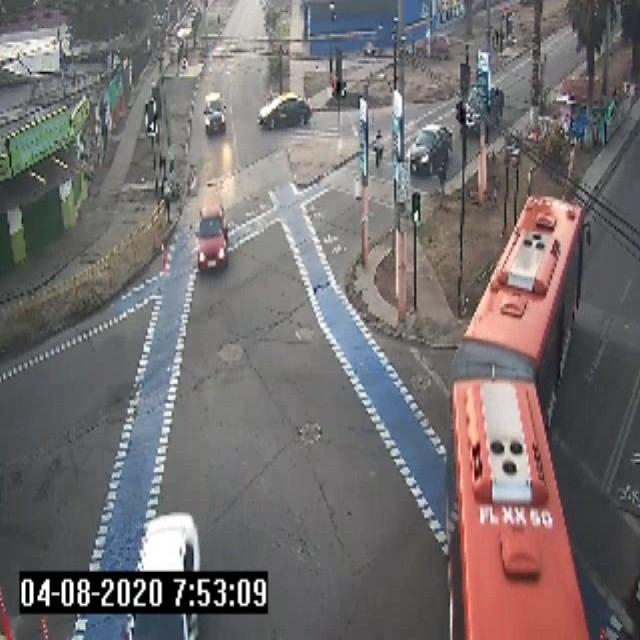AB: (441, 185, 595, 640)
